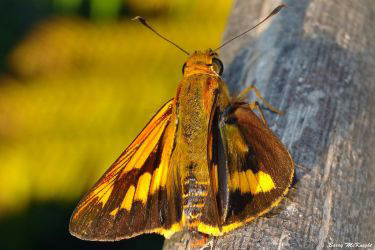Agape chloropyga: (64, 4, 295, 240)
moth: (66, 6, 297, 242)
